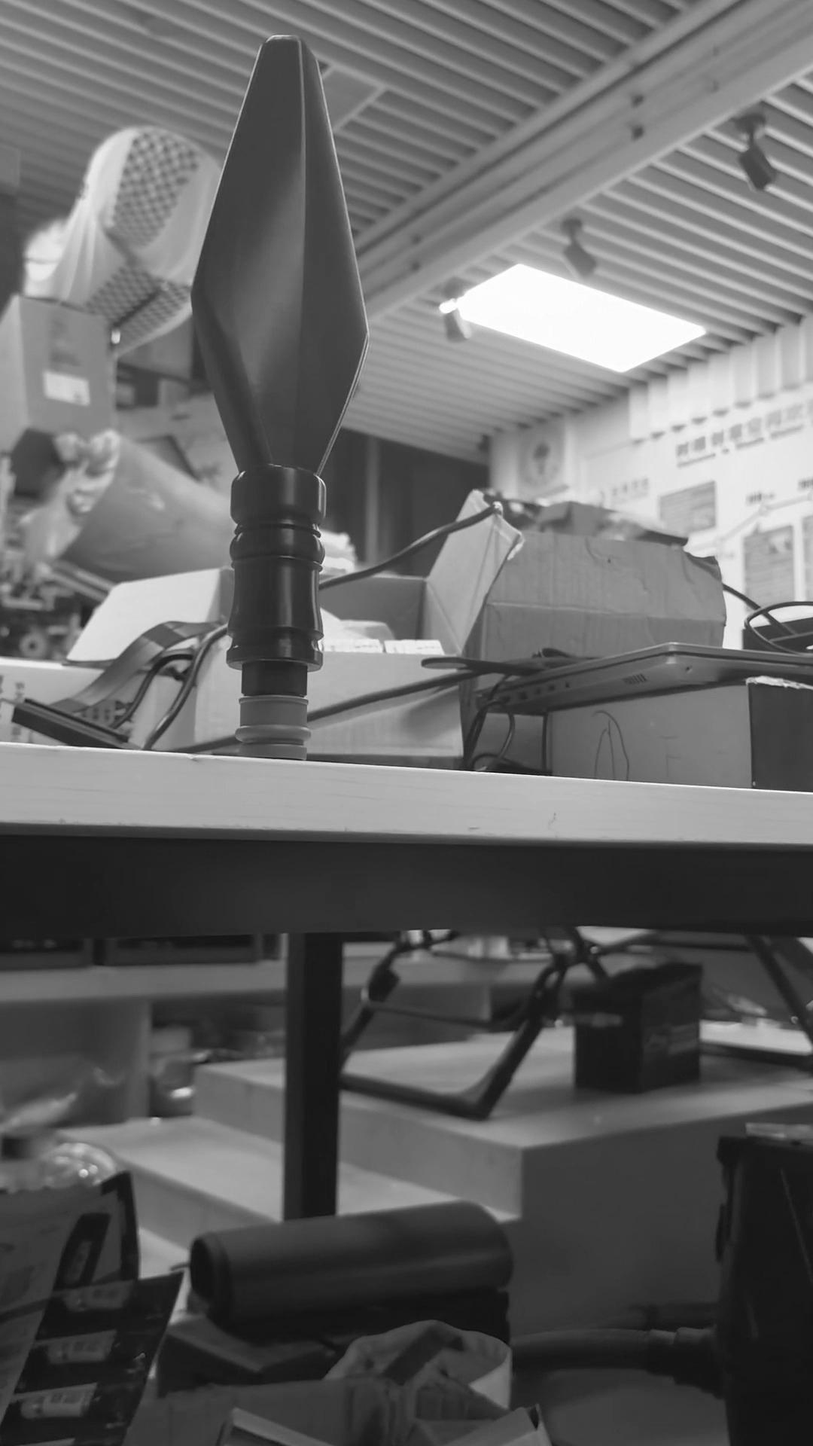base: (236, 683, 320, 764)
